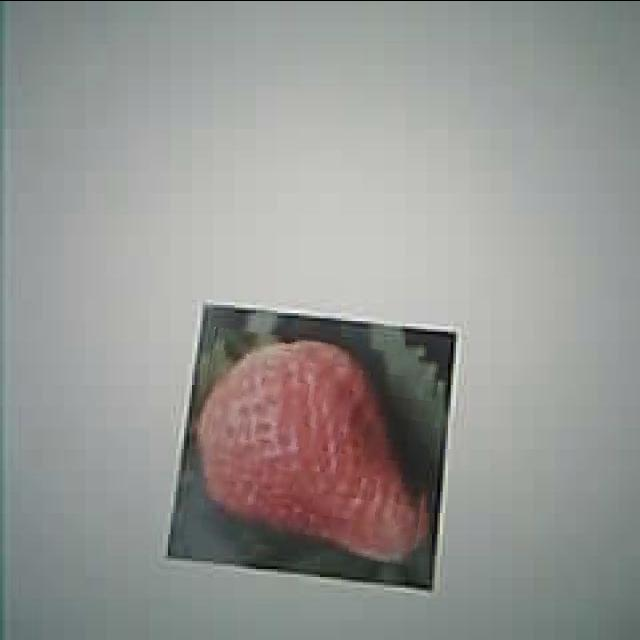strawberry: (192, 333, 434, 558)
